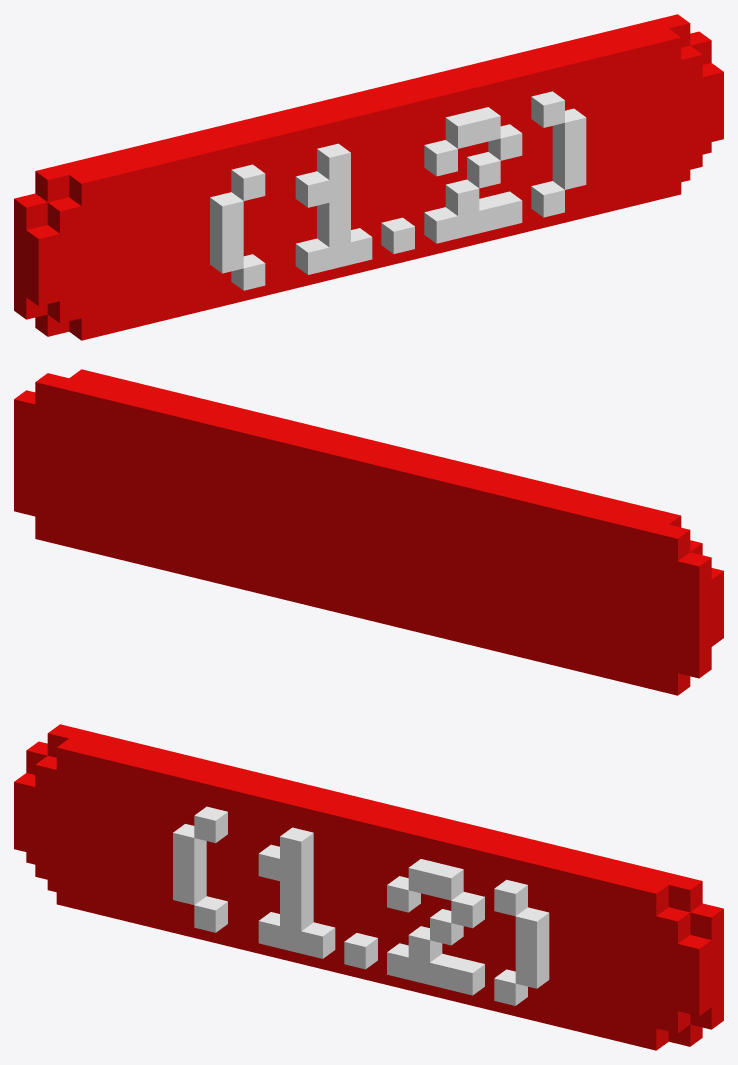
Rendered from lvl1.2.obj.
3 views of the same model, one above another, from view 1: azimuth 30°, elevation 25°; view 2: azimuth 150°, elevation 25°; view 3: azimuth 330°, elevation 25° (orthographic).
Visible parts, largest first — view 1: lvl1.2; view 2: lvl1.2; view 3: lvl1.2.
Boxes of the visible parts, x1=… form: lvl1.2: x1=14, y1=14, x2=723, y2=340; lvl1.2: x1=14, y1=369, x2=723, y2=695; lvl1.2: x1=14, y1=724, x2=723, y2=1050.
Bounding box in the file's own units: 32 × 7 × 3.
Materials: 1 (1 with a texture image).
